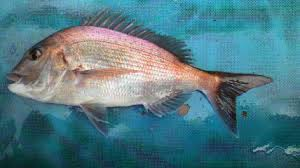tai: (4, 7, 260, 133)
